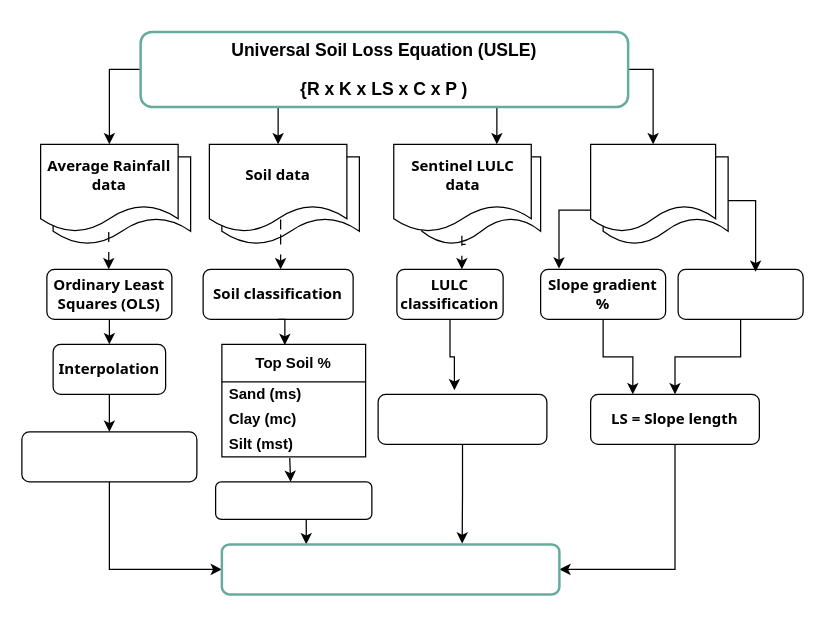
Some shapes in this 825 by 619 pixel diagram are drawn without their labels. The shapes that lost their labels are listed below. From the top down, each one's centre as x and y in pixels, then its label:
At point (652, 187): "DEM".
At point (740, 293): "Flow accumulation".
At point (462, 418): "C = Crop cover P = support practice".
At point (109, 456): "R = rainfall erosivity".
At point (293, 500): "K = Soil Erodibility".
At point (390, 568): "Annual Soil Loss (yr/ha/t)".
